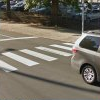crosswalk: (0, 41, 74, 72)
